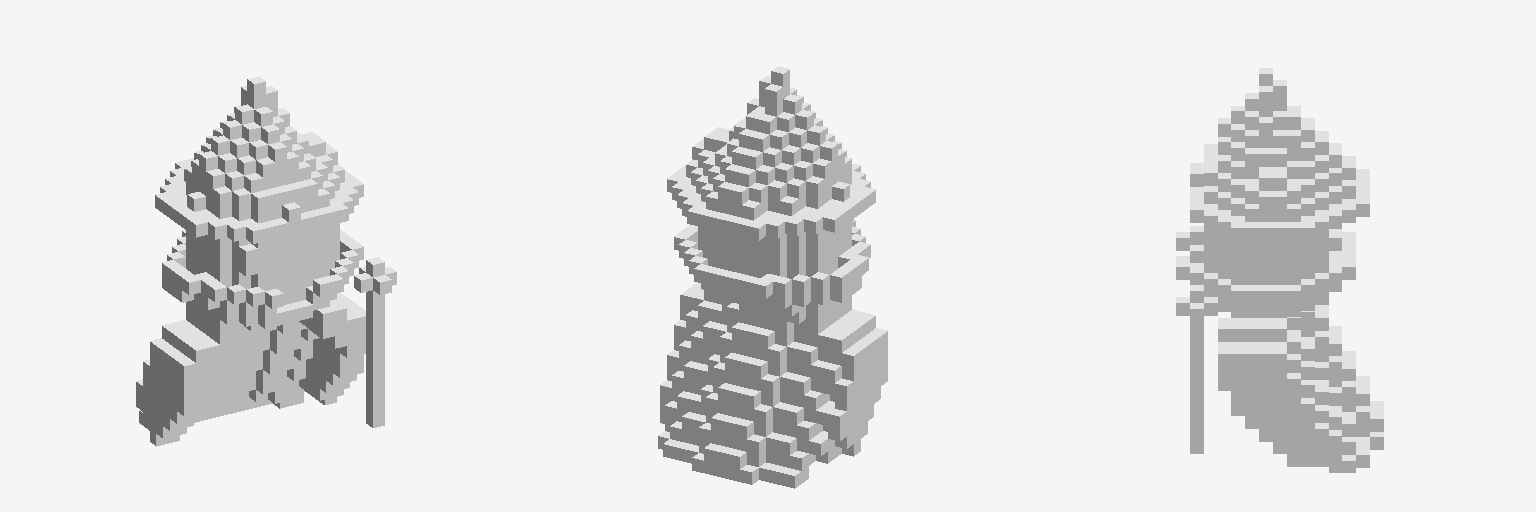
Rendered from Leonardo.obj.
The picture shows the model from 3 angles: view 1: azimuth 30°, elevation 25°; view 2: azimuth 150°, elevation 25°; view 3: azimuth 270°, elevation 25°; orthographic projection.
Visible parts, largest first — view 1: object 1; view 2: object 1; view 3: object 1.
Part boxes in pixels (x1,y1,x2,y2): object 1: (136,76,396,446); object 1: (658,66,887,488); object 1: (1176,68,1383,472).
Bounding box in the file's own units: 1.6 × 2.9 × 1.5.